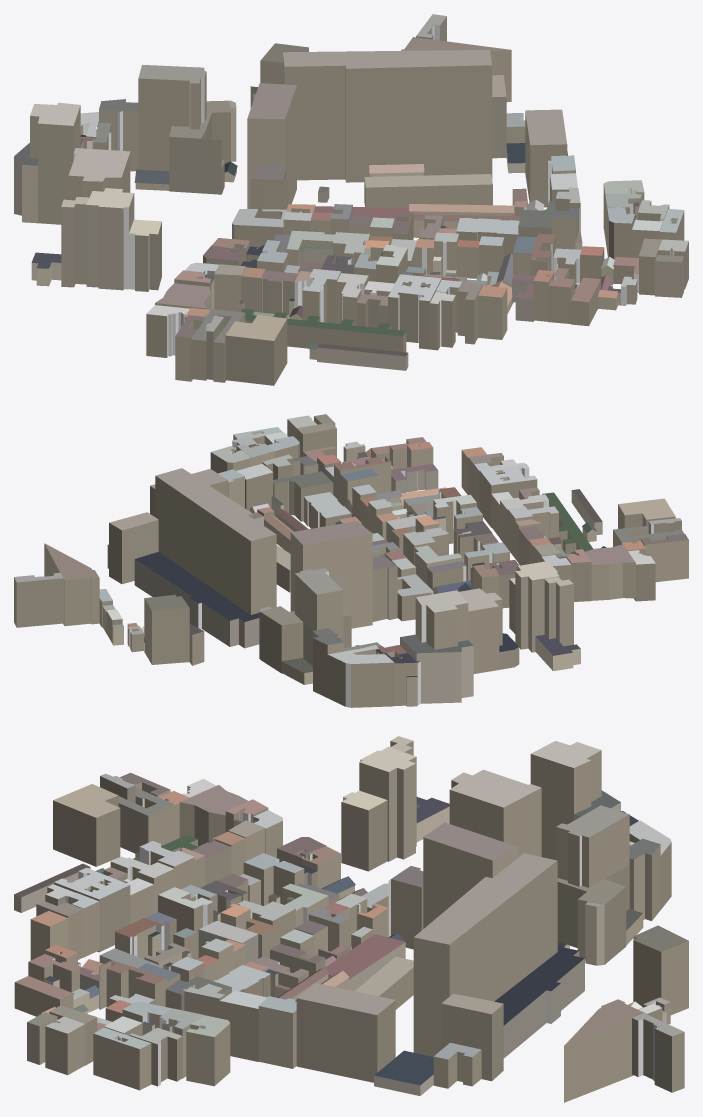
The picture shows the model from 3 angles, top to bottom: view 1: azimuth 30°, elevation 25°; view 2: azimuth 150°, elevation 25°; view 3: azimuth 270°, elevation 25°; orthographic projection. The views are drawn at different scales.
Visible parts, largest first — view 1: tuile; view 2: tuile; view 3: tuile.
Boxes of the visible parts, <box> form: tuile: <box>14,14,688,385</box>; tuile: <box>14,414,688,707</box>; tuile: <box>14,736,688,1102</box>.
Size of the model in its own units: 277 by 55.48 by 273.
